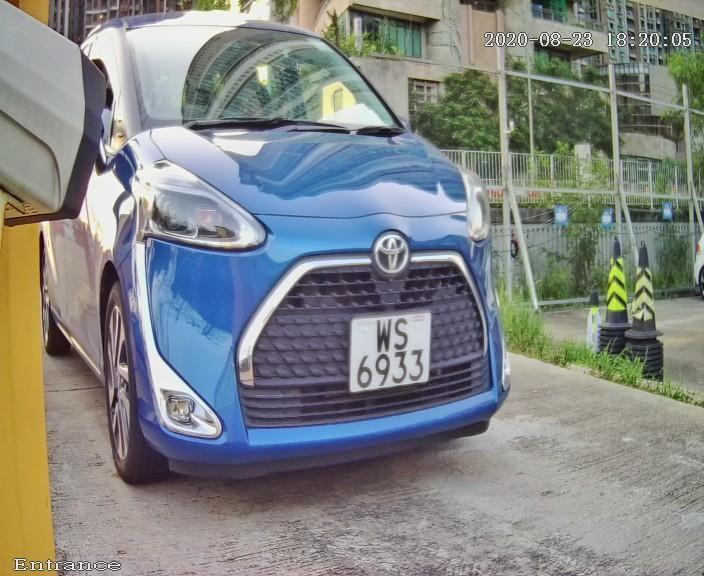Car: (29, 6, 554, 520)
License Plate: (323, 287, 456, 420)
